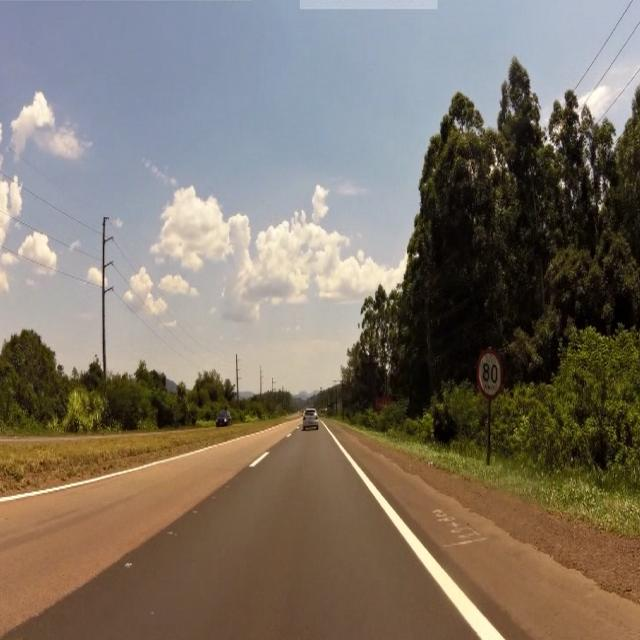R-19: (479, 352, 502, 393)
